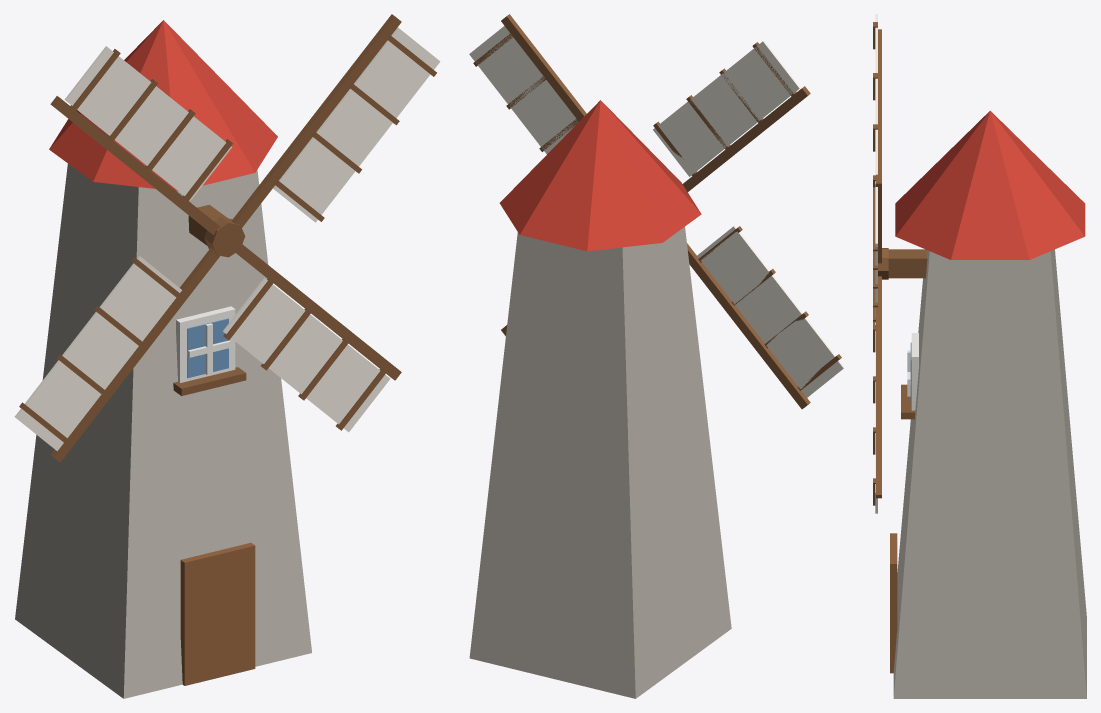
Rendered from windmill.obj.
3 views of the same model, side by side, from view 1: azimuth 30°, elevation 25°; view 2: azimuth 150°, elevation 25°; view 3: azimuth 270°, elevation 25° (orthographic). The views are drawn at different scales.
Parts seen in each view (by area): view 1: tower, blades, walls, glow; view 2: tower, blades; view 3: tower, blades, walls.
Boxes of the visible parts, bbox=[...] form: tower: bbox=[15, 20, 311, 698]; blades: bbox=[14, 14, 440, 462]; walls: bbox=[173, 306, 246, 395]; glow: bbox=[187, 318, 228, 377]; tower: bbox=[469, 100, 731, 698]; blades: bbox=[469, 14, 844, 409]; tower: bbox=[888, 110, 1086, 698]; blades: bbox=[873, 14, 888, 513]; walls: bbox=[901, 333, 918, 419].
Bounding box in the file's own units: 3.61 × 5.4 × 1.77.
